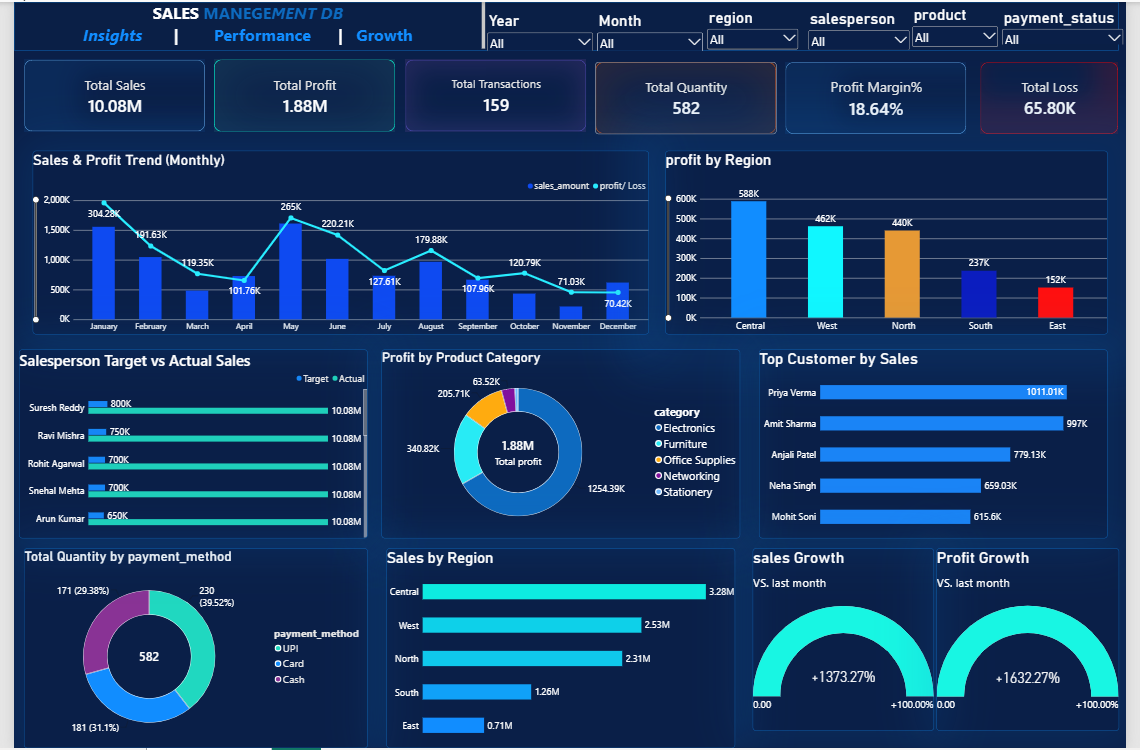

What the dashboard file says about the page in this screenshot:
{"tool":"powerbi","page":{"name":"Dashboard","canvas":[2576,1729],"ordinal":0},"visuals":[{"type":"cardVisual","fields":{"Data":["sales_transaction.Total Sales"]},"box":[22,134.5,420,167.4],"z":0},{"type":"cardVisual","fields":{"Data":["sales_transaction.Total Loss"]},"box":[2239.5,140,320,167.4],"z":1000},{"type":"cardVisual","fields":{"Data":["sales_transaction.Total Transactions"]},"box":[905.7,134.5,420,167],"z":2000},{"type":"cardVisual","fields":{"Data":["sales_transaction.Total Quantity"]},"box":[1347.5,140,420,167],"z":3000},{"type":"cardVisual","fields":{"Data":["sales_transaction.Total Profit"]},"box":[463.8,134.5,420,167.4],"z":4000},{"type":"cardVisual","fields":{"Data":["sales_transaction.Profit Margin%"]},"box":[1786.6,140,420,167],"z":5000},{"type":"shape","box":[0,0,2560.6,112.5],"z":6000},{"type":"textbox","box":[64,520,235,150],"z":7000},{"type":"textbox","box":[0,0,1092.2,113],"z":8000},{"type":"lineClusteredColumnComboChart","title":"Sales & Profit Trend (Monthly)","fields":{"Category":["sales_transaction.Month_Name"],"Y":["Sum(sales_transaction.sales_amount)"],"Y2":["Sum(sales_transaction.profit)"]},"box":[43.5,344.8,1428.3,425.9],"z":9000},{"type":"donutChart","title":"Profit by Product Category","fields":{"Category":["Product.category"],"Y":["Sum(sales_transaction.profit)"]},"box":[851.8,805.4,831.5,437.5],"z":10000},{"type":"columnChart","title":"  profit  by Region","fields":{"Y":["Sum(sales_transaction.profit)"],"Category":["Region.region_name"]},"box":[1509.4,344.8,1025.6,425.9],"z":11000},{"type":"barChart","title":"Top Customer by Sales","fields":{"Category":["Customer.customer_name"],"Y":["Sum(sales_transaction.sales_amount)"]},"box":[1726.7,805.4,808.3,437.5],"z":12000},{"type":"donutChart","fields":{"Category":["sales_transaction.payment_method"],"Y":["sales_transaction.Total Quantity"]},"box":[23.2,1266,796.7,463.5],"z":13000},{"type":"clusteredBarChart","title":"Sales by Region","fields":{"Category":["Region.region_name"],"Y":["Sum(sales_transaction.sales_amount)"]},"box":[863.3,1266,808.3,463.5],"z":14000},{"type":"clusteredBarChart","title":"Salesperson Target vs Actual Sales","fields":{"Category":["Sales_person.salesperson_name"],"Y":["Sum(Sales_person.sales_target)","Sum(sales_transaction.sales_amount)"]},"box":[11.6,805.4,808.3,437.5],"z":15000},{"type":"slicer","fields":{"Values":["sales_transaction.Sales_Year"]},"box":[1092.2,23.2,254.9,89.8],"z":16000},{"type":"slicer","fields":{"Values":["sales_transaction.Month_Name"]},"box":[1347.2,23.2,254.9,89.8],"z":17000},{"type":"slicer","fields":{"Values":["Sales_person.salesperson_name"]},"box":[1836.8,17.4,243.4,92.7],"z":18000},{"type":"slicer","fields":{"Values":["Region.region_name"]},"box":[1602.1,14.5,220.2,104.3],"z":19000},{"type":"slicer","fields":{"Values":["Product.product_name"]},"box":[2077.2,8.7,208.6,113],"z":20000},{"type":"slicer","fields":{"Values":["sales_transaction.payment_status"]},"box":[2285.8,14.5,289.7,84],"z":21000},{"type":"gauge","title":"sales Growth","fields":{"Y":["help table.sales growth%"]},"box":[1712.2,1266,420.1,423],"z":22000},{"type":"gauge","title":"Profit Growth","fields":{"Y":["help table.Profit Growth %"]},"box":[2138.1,1266,423,423],"z":22001}]}

Visuals, with their boxes in screenshot pixels (x1, y1, x2, y2), scaled from the page's 2576x1729 canvas onto the 1140x750 screenshot:
cardVisual - sales_transaction.Total Sales: 10,58,196,131
cardVisual - sales_transaction.Total Loss: 991,61,1133,133
cardVisual - sales_transaction.Total Transactions: 401,58,587,131
cardVisual - sales_transaction.Total Quantity: 596,61,782,133
cardVisual - sales_transaction.Total Profit: 205,58,391,131
cardVisual - sales_transaction.Profit Margin%: 791,61,977,133
shape: 0,0,1133,49
textbox: 28,226,132,291
textbox: 0,0,483,49
"Sales & Profit Trend (Monthly)" lineClusteredColumnComboChart: 19,150,651,334
"Profit by Product Category" donutChart: 377,349,745,539
"  profit  by Region" columnChart: 668,150,1122,334
"Top Customer by Sales" barChart: 764,349,1122,539
donutChart - sales_transaction.payment_method x sales_transaction.Total Quantity: 10,549,363,749
"Sales by Region" clusteredBarChart: 382,549,740,749
"Salesperson Target vs Actual Sales" clusteredBarChart: 5,349,363,539
slicer - sales_transaction.Sales_Year: 483,10,596,49
slicer - sales_transaction.Month_Name: 596,10,709,49
slicer - Sales_person.salesperson_name: 813,8,921,48
slicer - Region.region_name: 709,6,806,52
slicer - Product.product_name: 919,4,1012,53
slicer - sales_transaction.payment_status: 1012,6,1139,43
"sales Growth" gauge: 758,549,944,733
"Profit Growth" gauge: 946,549,1133,733
